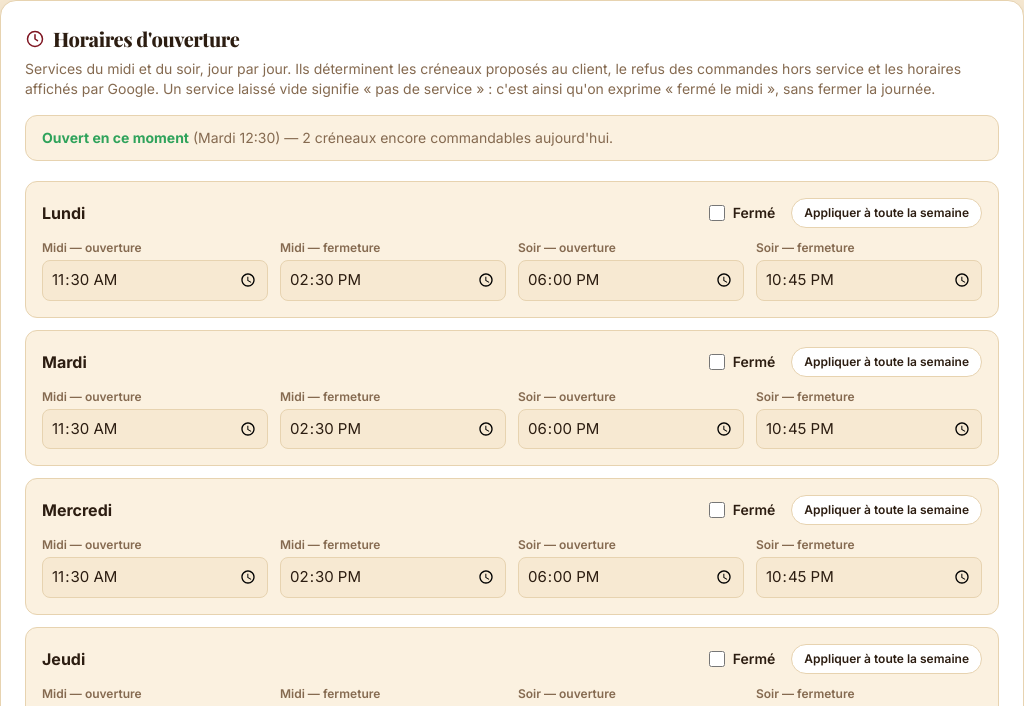
Test: un service à moitié rempli › accepte en revanche les deux champs vides — c'est ainsi qu'on dit « fermé le midi »
Expected: the text "Lundi" is shown, [42,201,85,225]
Clear the time field labelled "Midi — ouverture" below "Lundi" at (155, 280), box [42,260,268,300]
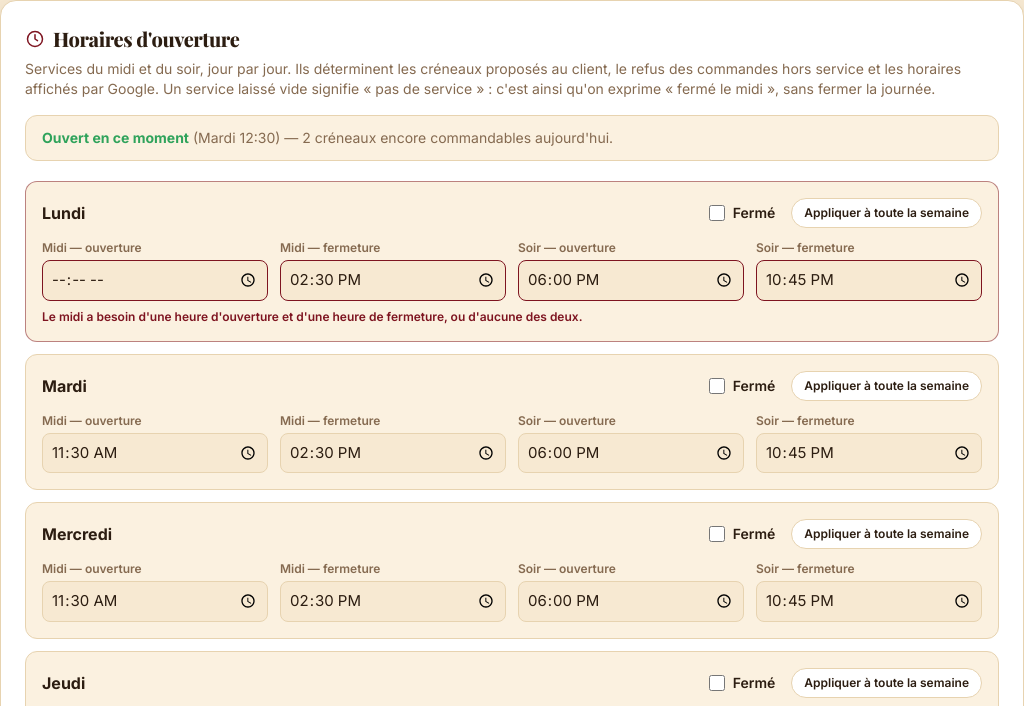
Clear the time field labelled "Midi — fermeture" below "Lundi" at (393, 280), box [280,260,506,300]
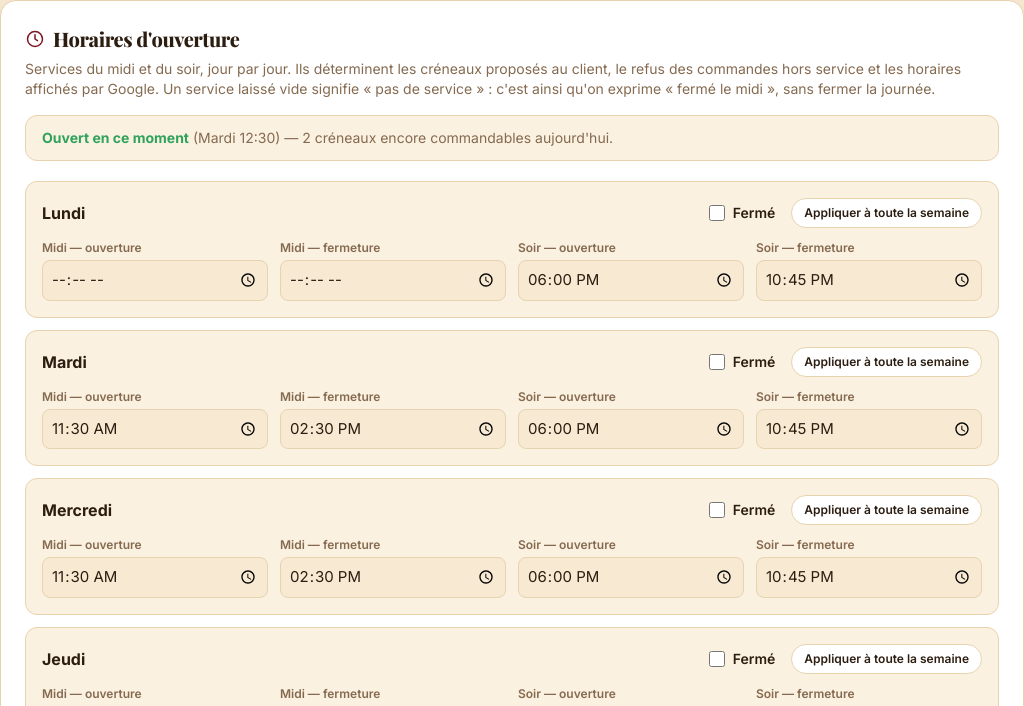
Expected: the text "a besoin d'une heure d'ouverture" is gone
